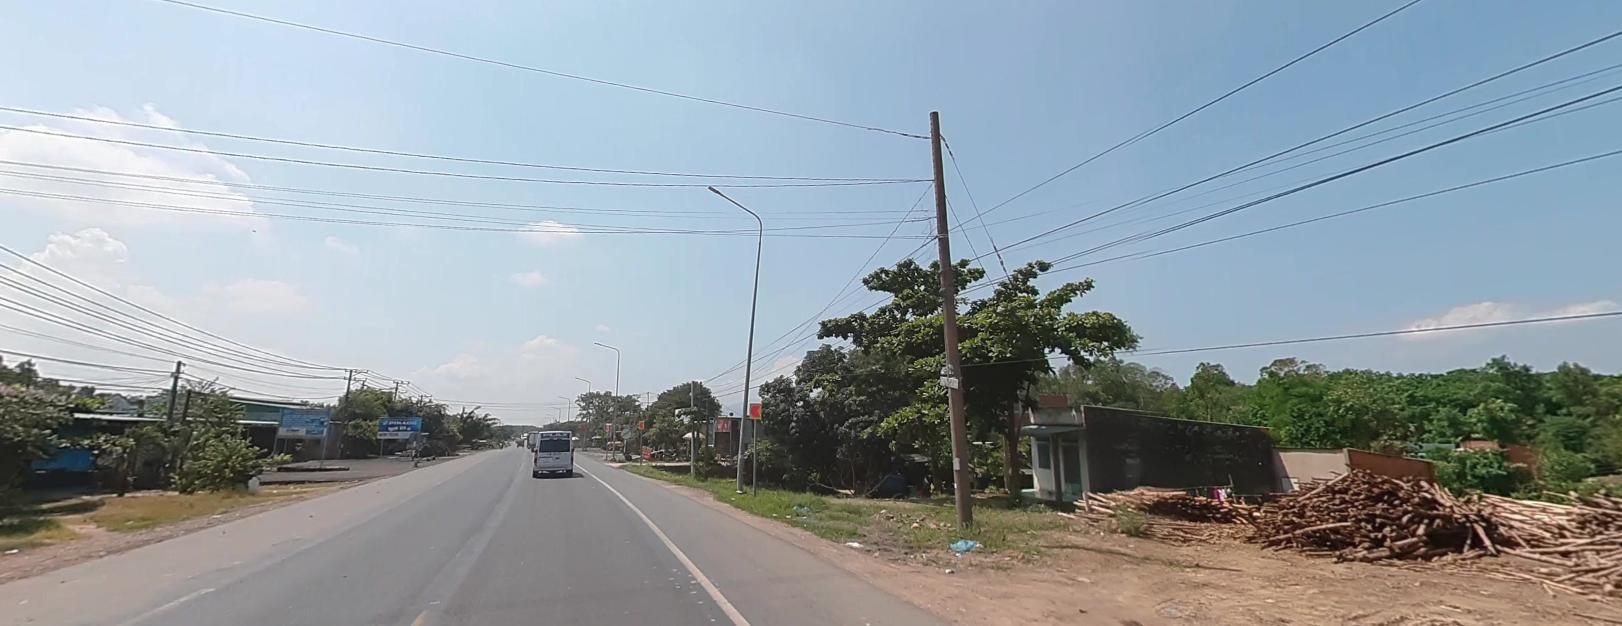Cam con lai: (620, 426, 631, 437)
